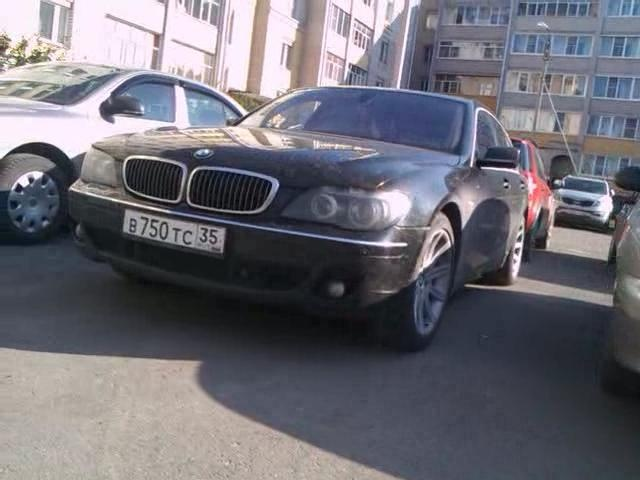car license plate: (121, 209, 227, 256)
